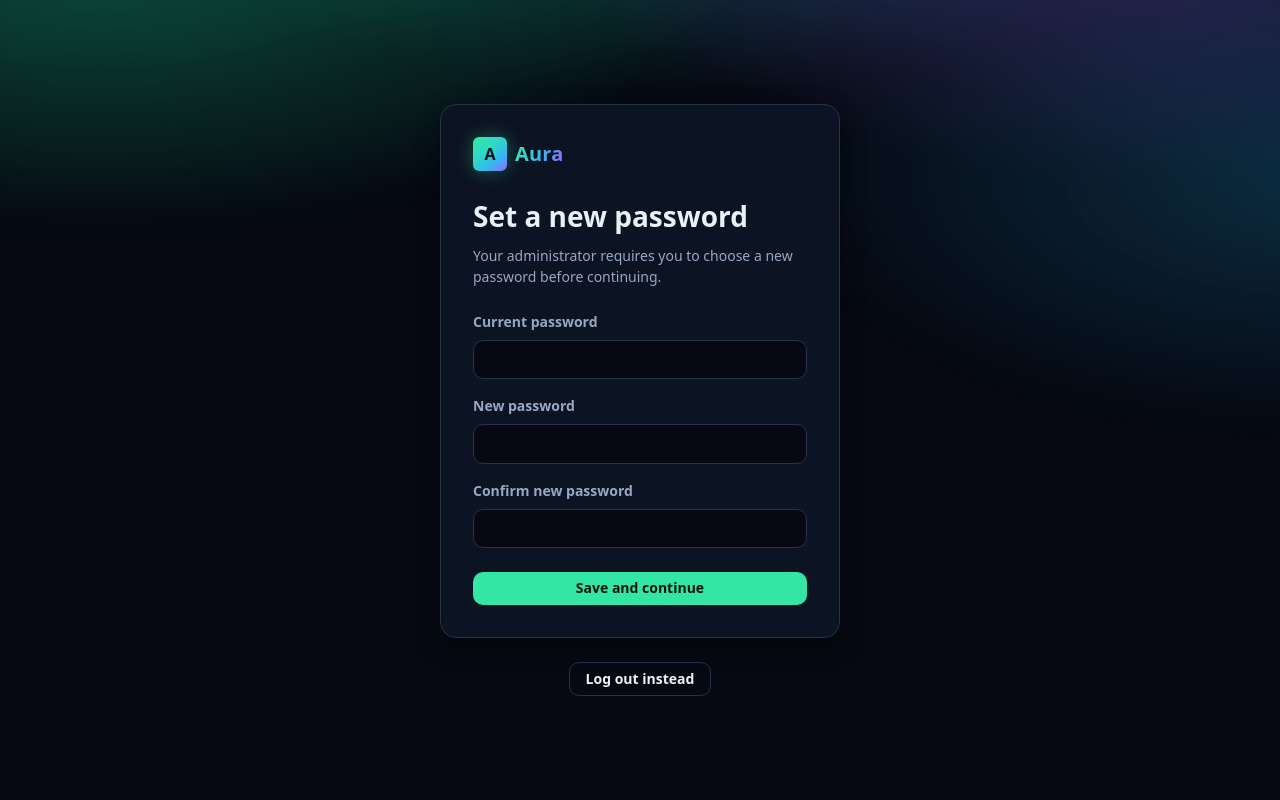
Test case: mustChangePassword gate › forces the change-password screen and clears it on a successful submit
This screenshot has width=1280, height=800.
Expected: the heading "Set a new password" is shown, [473,197,748,235]
Expected: the text "Welcome back" is not shown
Step 1. Type "old-pass-123" into the password field labelled "Current password" → (640, 360), box [473,340,807,379]
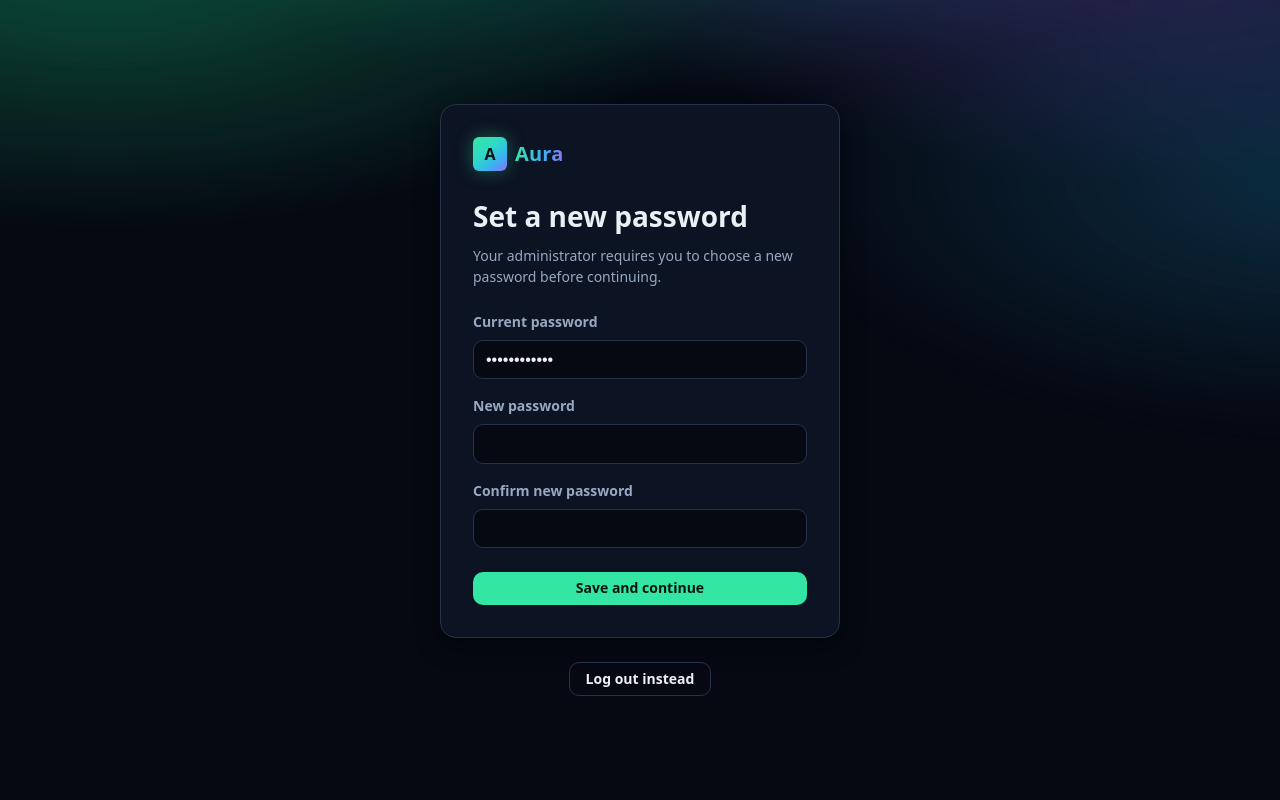
Step 2. Type "brand-new-pass-1" into the password field labelled "New password" → (640, 444), box [473,424,807,464]
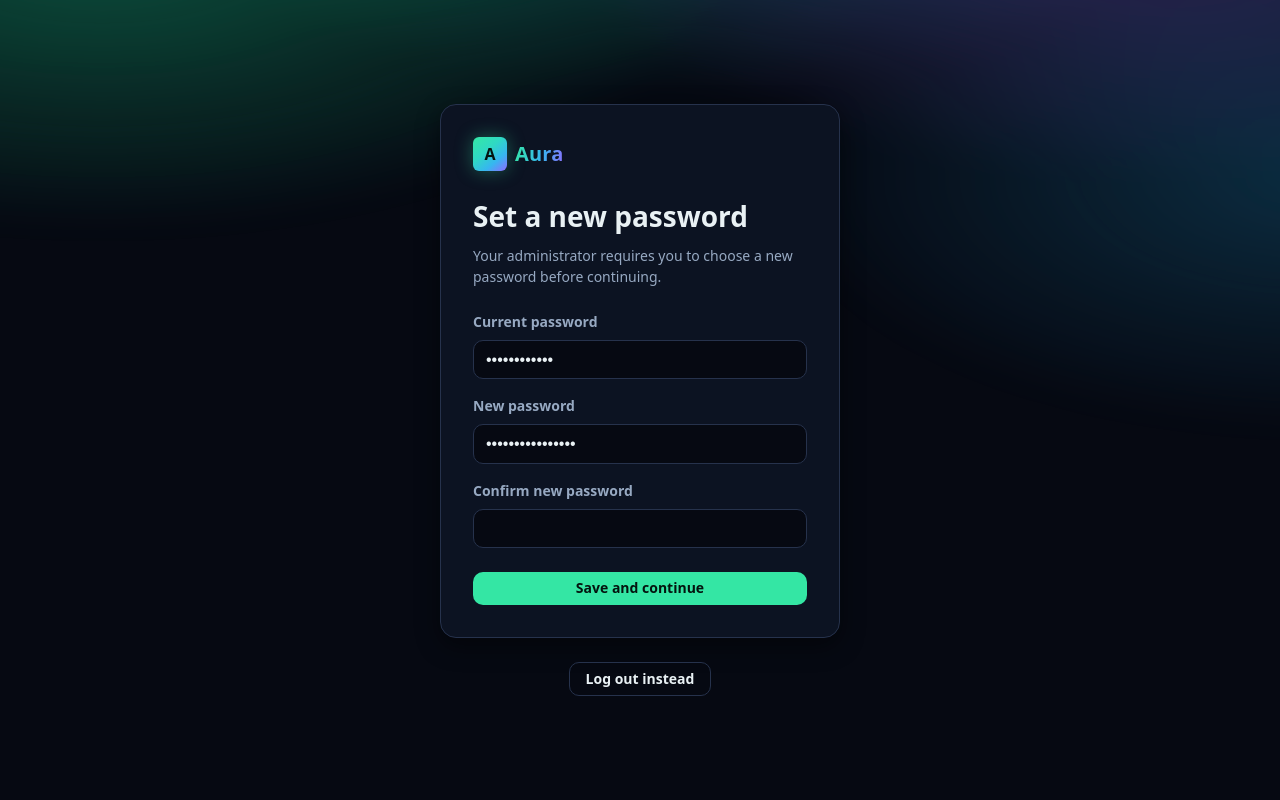
Step 3. Type "brand-new-pass-1" into the password field labelled "Confirm new password" → (640, 528), box [473,508,807,548]
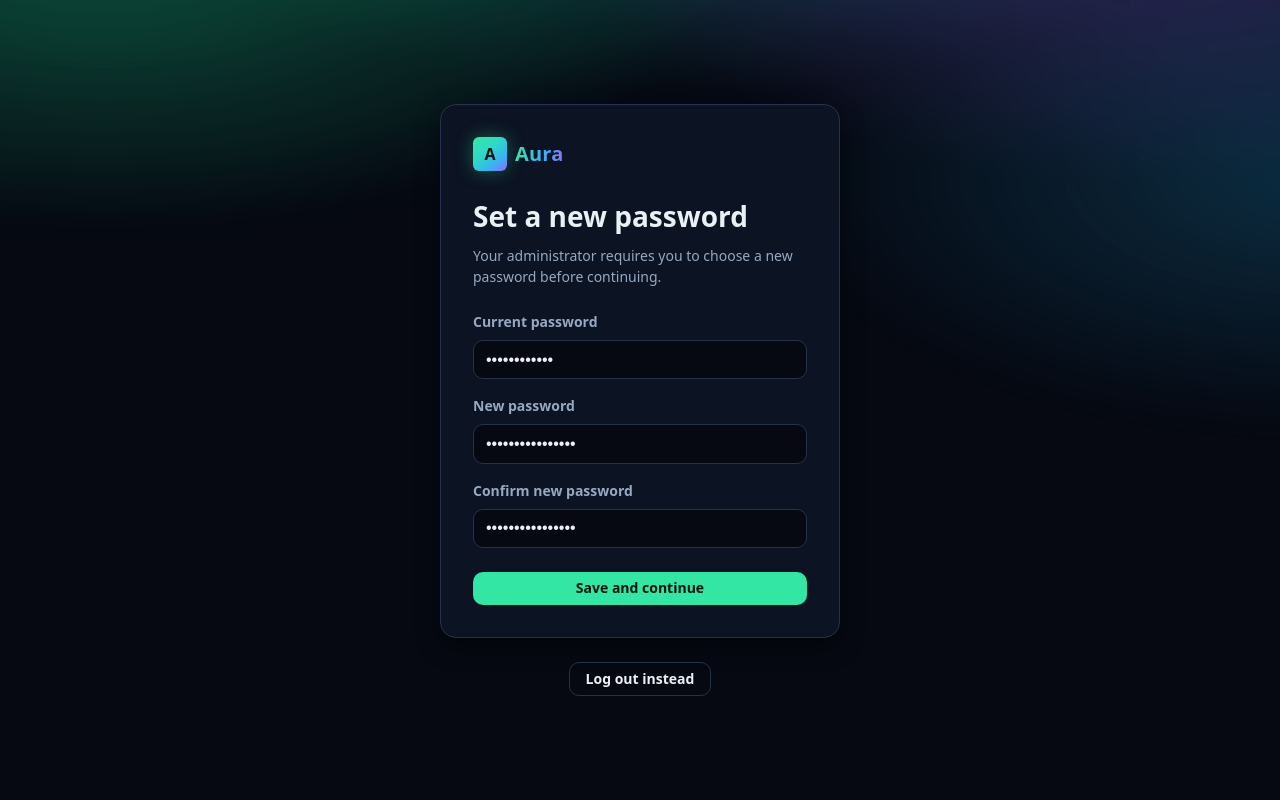
Step 4. Click the button "Save and continue" → (640, 588), box [473,572,807,605]
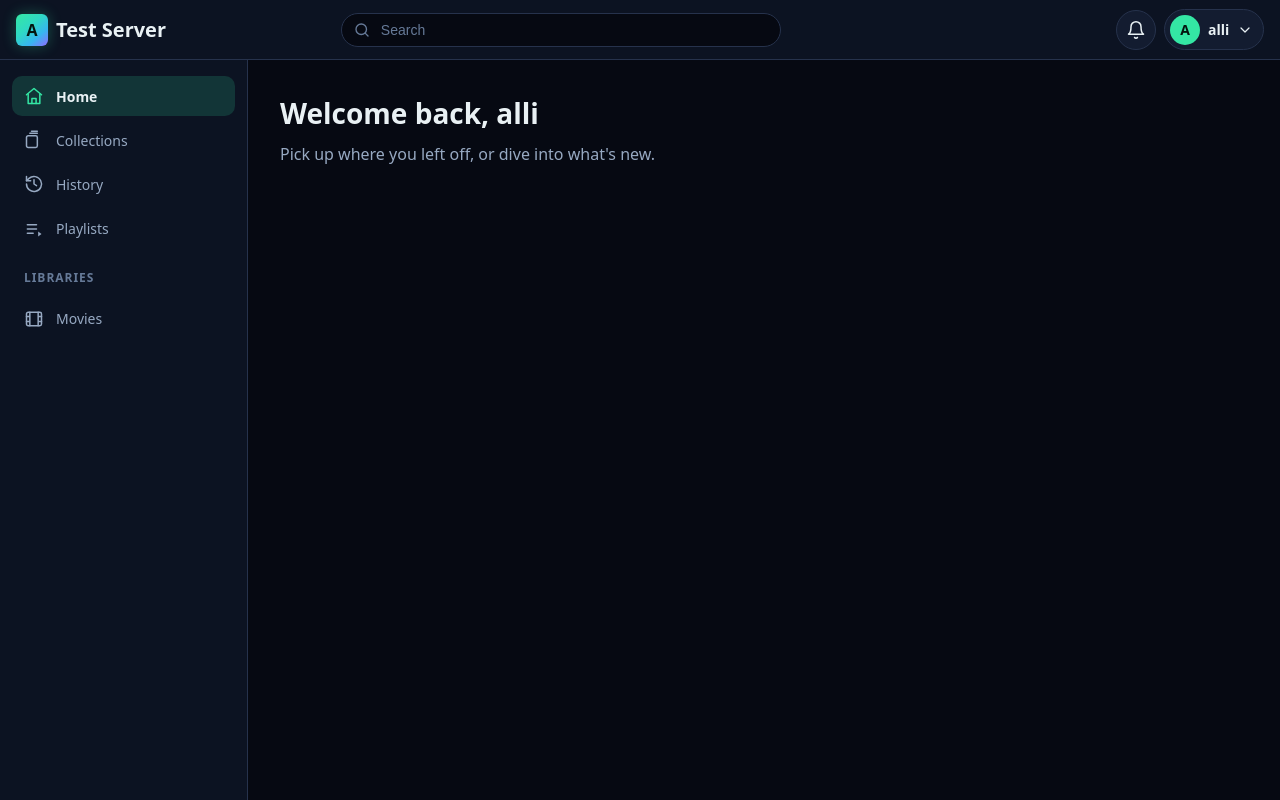
Expected: the heading "Welcome back, alli" is shown, [280,94,539,132]
